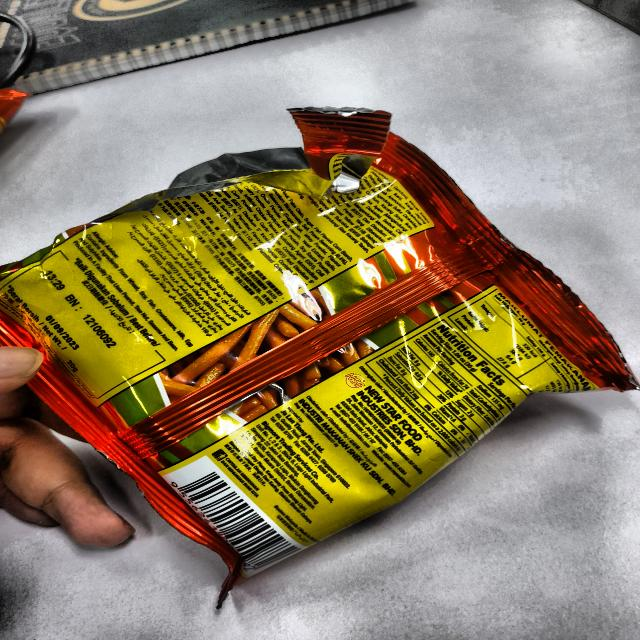Plastic: (18, 116, 632, 558)
